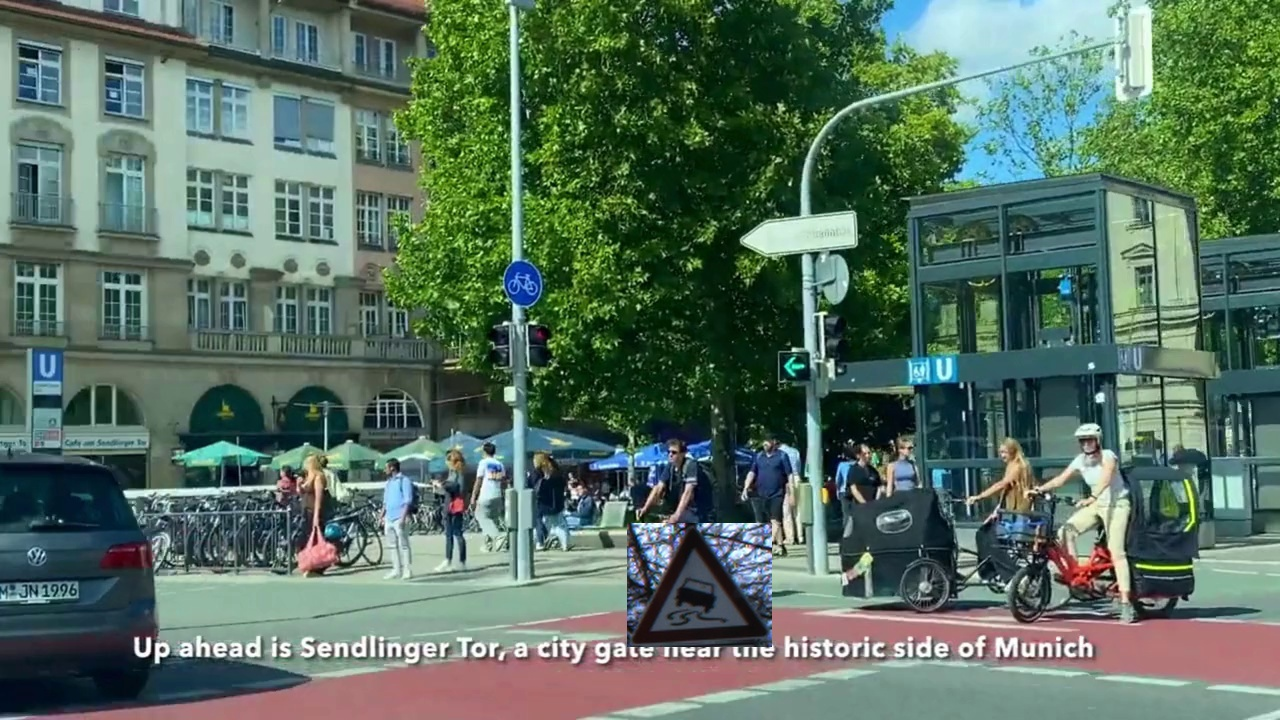Slippery: (627, 523, 772, 647)
